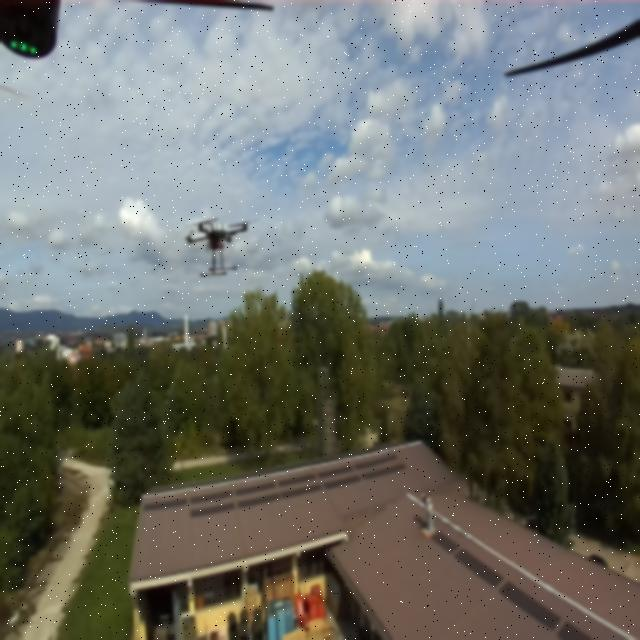UAV: (180, 206, 254, 277)
